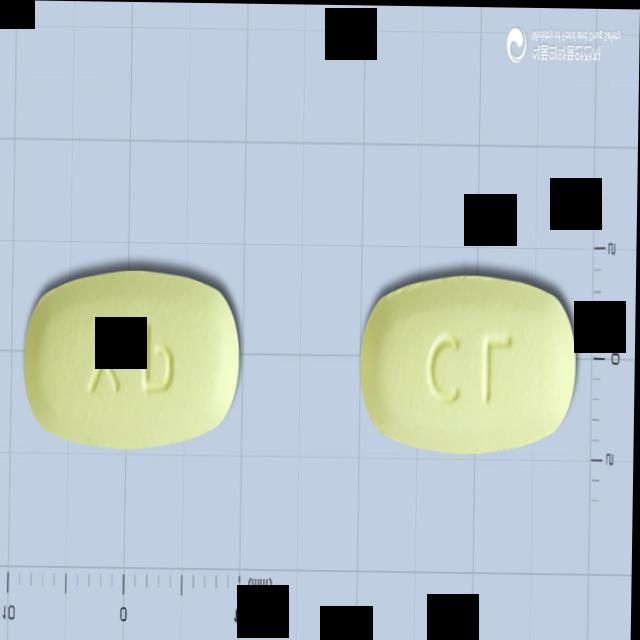Clarithromycin Tab- Youngpoong: (23, 265, 243, 452), (359, 270, 579, 452)
